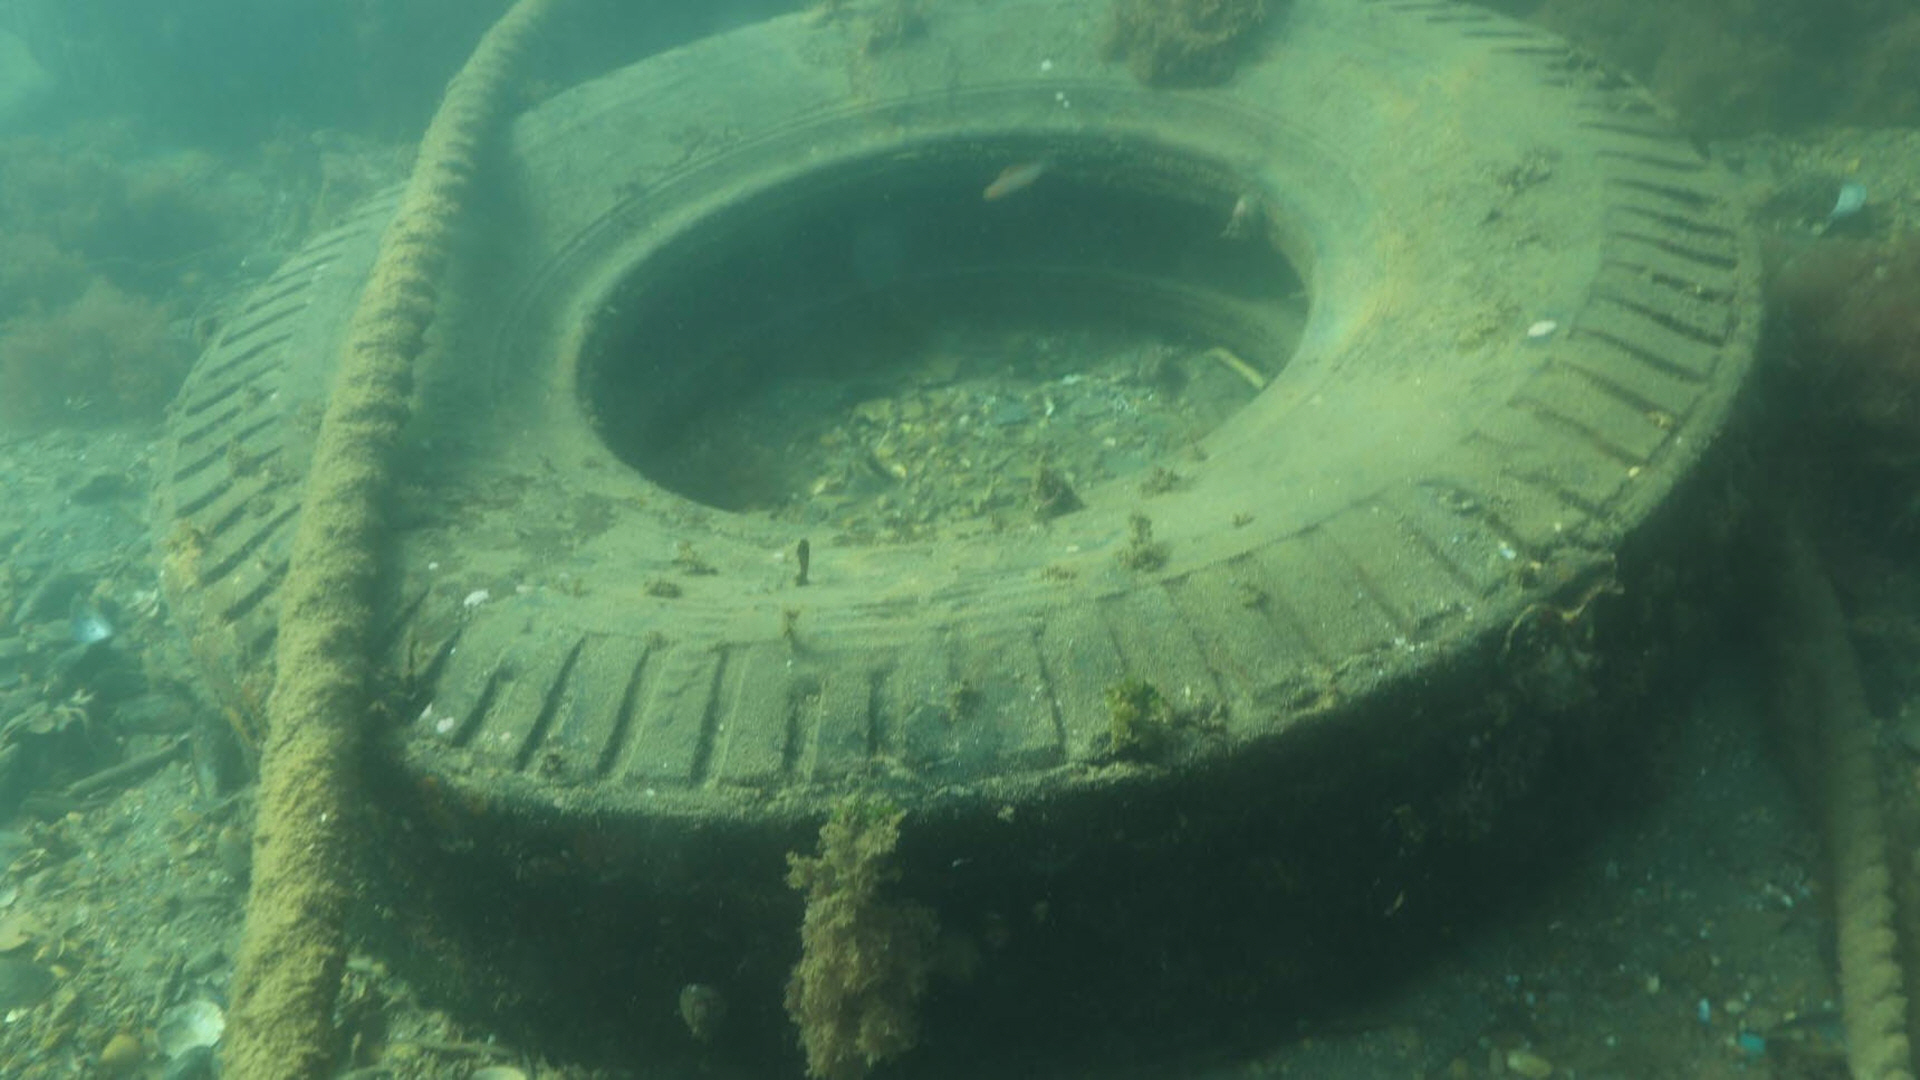rope: (225, 0, 549, 1080), (1783, 545, 1917, 1080)
tire: (156, 0, 1764, 1080)
